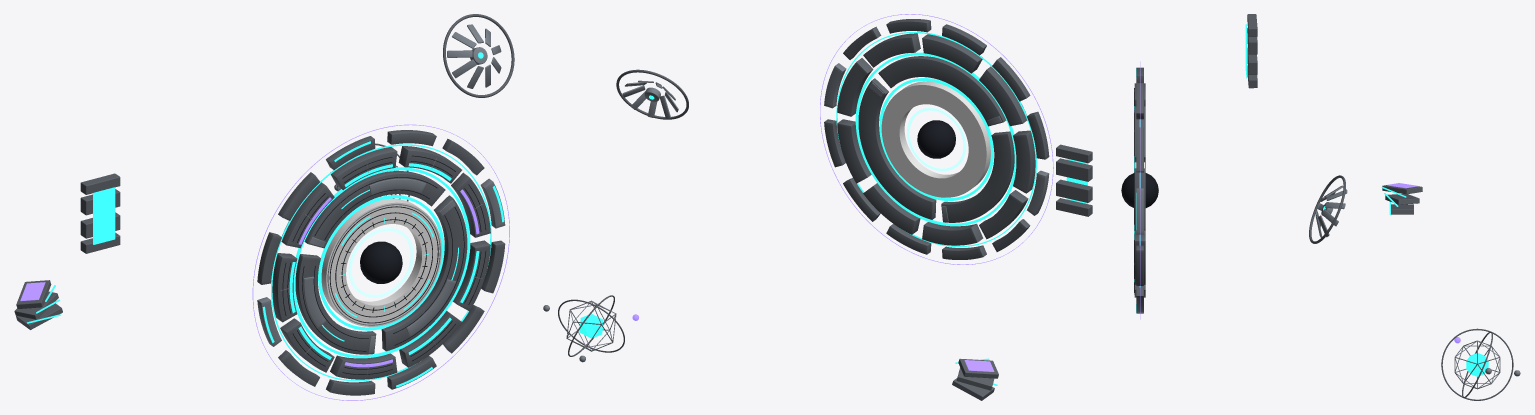
File: taixu-portal.glb
3 renders of one model, left to right at view 1: azimuth 30°, elevation 25°; view 2: azimuth 150°, elevation 25°; view 3: azimuth 270°, elevation 25°, orthographic. The views are drawn at different scales.
Visible parts, largest first — view 1: TX_Portal_Gate, TX_Portal_RingOuter, TX_Portal_RingMid, TX_Portal_RimRing, TX_Lang, TX_Perf, TX_Learn; view 2: TX_Portal_Gate, TX_Portal_RingOuter, TX_Portal_RingMid, TX_Portal_RimRing, TX_Lang, TX_AI, TX_Perf, TX_Learn; view 3: TX_AI, TX_Portal_RimRing, TX_Portal_RingOuter, TX_Perf, TX_Portal_Gate, TX_Learn, TX_Lang.
Boxes of the visible parts, bbox=[...] form: TX_Portal_Gate: bbox=[252, 124, 509, 400]; TX_Portal_RingOuter: bbox=[272, 146, 490, 379]; TX_Portal_RingMid: bbox=[295, 171, 467, 354]; TX_Portal_RimRing: bbox=[257, 130, 505, 395]; TX_Lang: bbox=[80, 173, 120, 253]; TX_Perf: bbox=[443, 14, 514, 97]; TX_Learn: bbox=[14, 280, 62, 329]; TX_Portal_Gate: bbox=[820, 14, 1053, 264]; TX_Portal_RingOuter: bbox=[837, 33, 1035, 245]; TX_Portal_RingMid: bbox=[858, 56, 1014, 222]; TX_Portal_RimRing: bbox=[824, 19, 1049, 259]; TX_Lang: bbox=[1056, 144, 1092, 216]; TX_AI: bbox=[543, 295, 638, 362]; TX_Perf: bbox=[616, 69, 688, 119]; TX_Learn: bbox=[952, 358, 998, 400]; TX_AI: bbox=[1441, 328, 1520, 400]; TX_Portal_RimRing: bbox=[1136, 67, 1143, 313]; TX_Portal_RingOuter: bbox=[1134, 83, 1145, 297]; TX_Perf: bbox=[1309, 175, 1347, 243]; TX_Portal_Gate: bbox=[1121, 61, 1158, 319]; TX_Learn: bbox=[1381, 183, 1422, 214]; TX_Lang: bbox=[1245, 14, 1257, 88].
Bounding box in the file's own units: 12.76 × 7.12 × 10.65.
